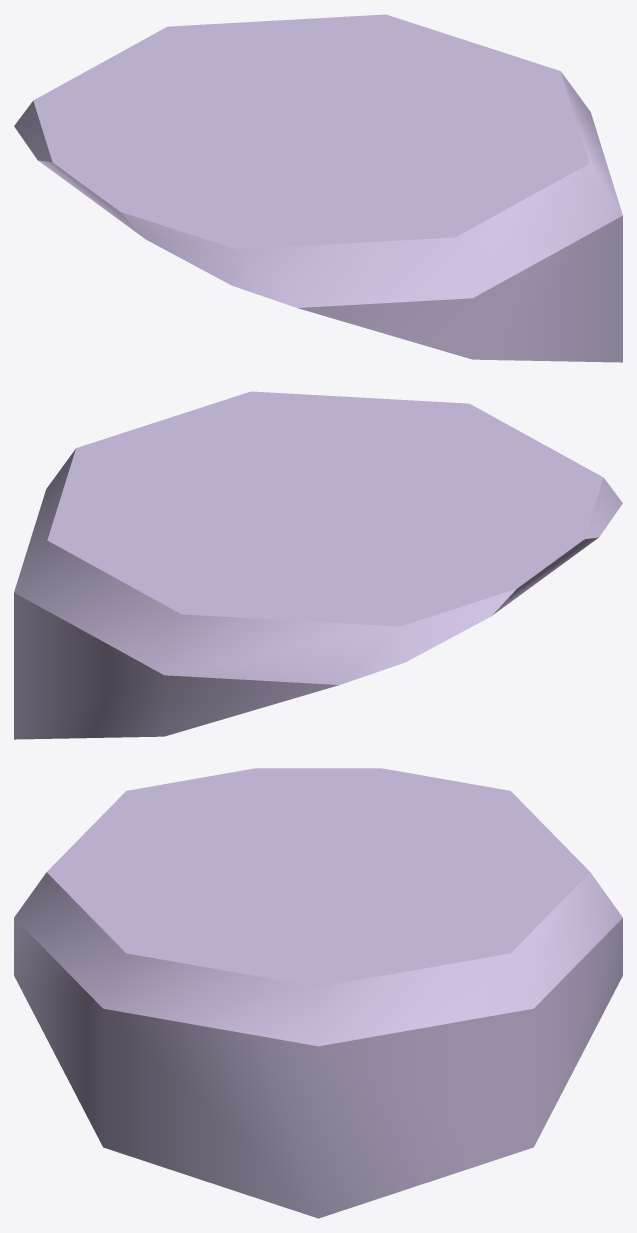
The picture shows the model from 3 angles, top to bottom: view 1: azimuth 30°, elevation 25°; view 2: azimuth 150°, elevation 25°; view 3: azimuth 270°, elevation 25°; orthographic projection. The views are drawn at different scales.
Visible parts, largest first — view 1: Object16; view 2: Object16; view 3: Object16.
Part boxes in pixels (x1,y1,x2,y2): Object16: (14, 14, 622, 362); Object16: (14, 391, 622, 739); Object16: (14, 768, 622, 1218).
Size of the model in its own units: 86.46 by 37.78 by 95.73.
